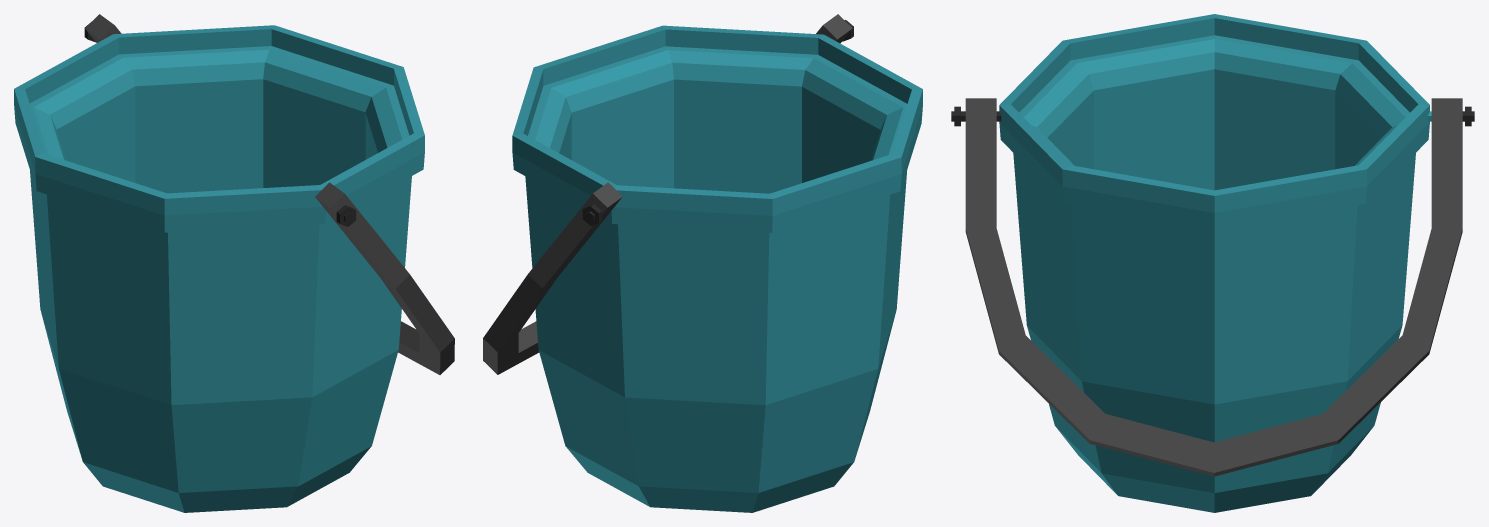
The model's file is Bucket_02.fbx.
3 renders of one model, left to right at view 1: azimuth 30°, elevation 25°; view 2: azimuth 150°, elevation 25°; view 3: azimuth 270°, elevation 25°, orthographic.
Parts seen in each view (by area): view 1: Bucklet_02; view 2: Bucklet_02; view 3: Bucklet_02.
Part boxes in pixels (x1,y1,x2,y2): Bucklet_02: (14, 14, 454, 512); Bucklet_02: (483, 14, 922, 512); Bucklet_02: (951, 14, 1474, 512).
Bounding box in the file's own units: 29 × 27.1 × 34.68.
